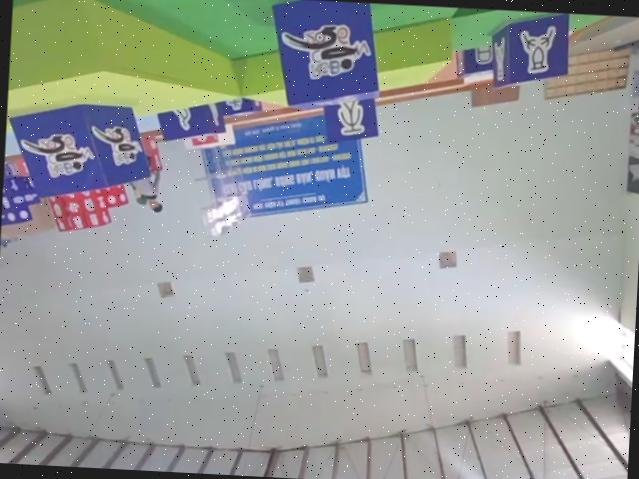R1 Blue: (4, 96, 154, 201), (263, 0, 381, 112)
R2 Fake Blue: (322, 90, 382, 142), (452, 43, 496, 79)
R2 Real Blue: (487, 9, 570, 91), (157, 94, 230, 141)
